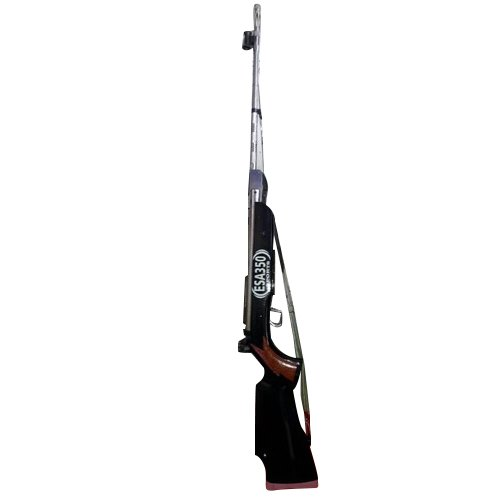Arma Real: (236, 1, 326, 491)
